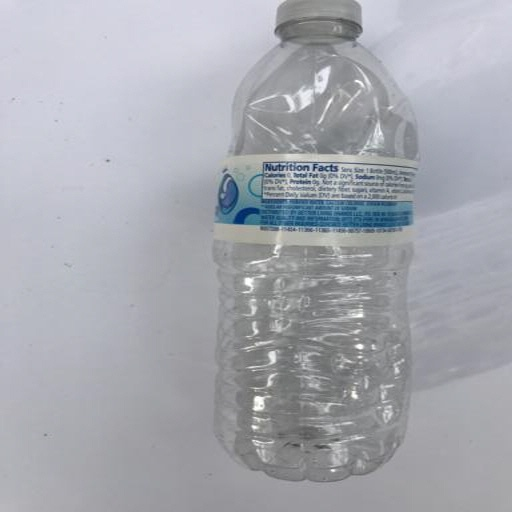Plastic_0: (212, 1, 418, 480)
